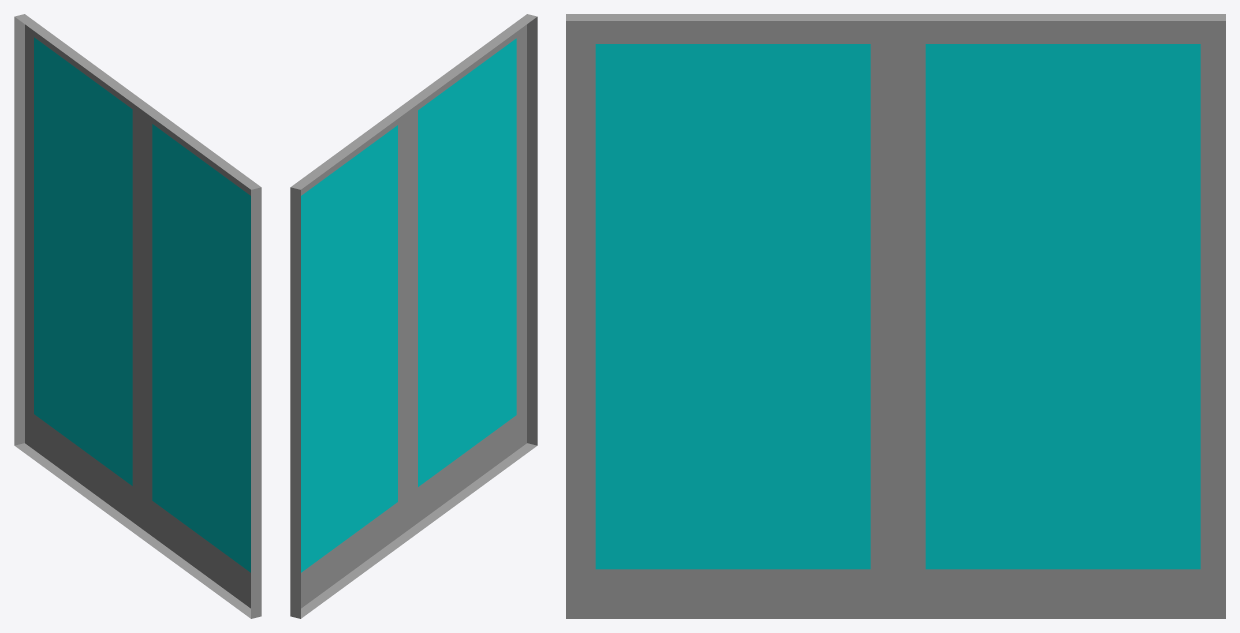
The model's file is kitsch_wall_window_02_LOD1.fbx.
The picture shows the model from 3 angles, left to right: view 1: azimuth 30°, elevation 25°; view 2: azimuth 150°, elevation 25°; view 3: azimuth 270°, elevation 25°; orthographic projection. The views are drawn at different scales.
Parts seen in each view (by area): view 1: kitsch_wall_window_02_LOD1; view 2: kitsch_wall_window_02_LOD1; view 3: kitsch_wall_window_02_LOD1.
Boxes of the visible parts, x1,y1,x2,y2 form: kitsch_wall_window_02_LOD1: [14, 14, 261, 618]; kitsch_wall_window_02_LOD1: [290, 14, 537, 618]; kitsch_wall_window_02_LOD1: [566, 14, 1225, 618].
Bounding box in the file's own units: 0.0763 × 3 × 3.
